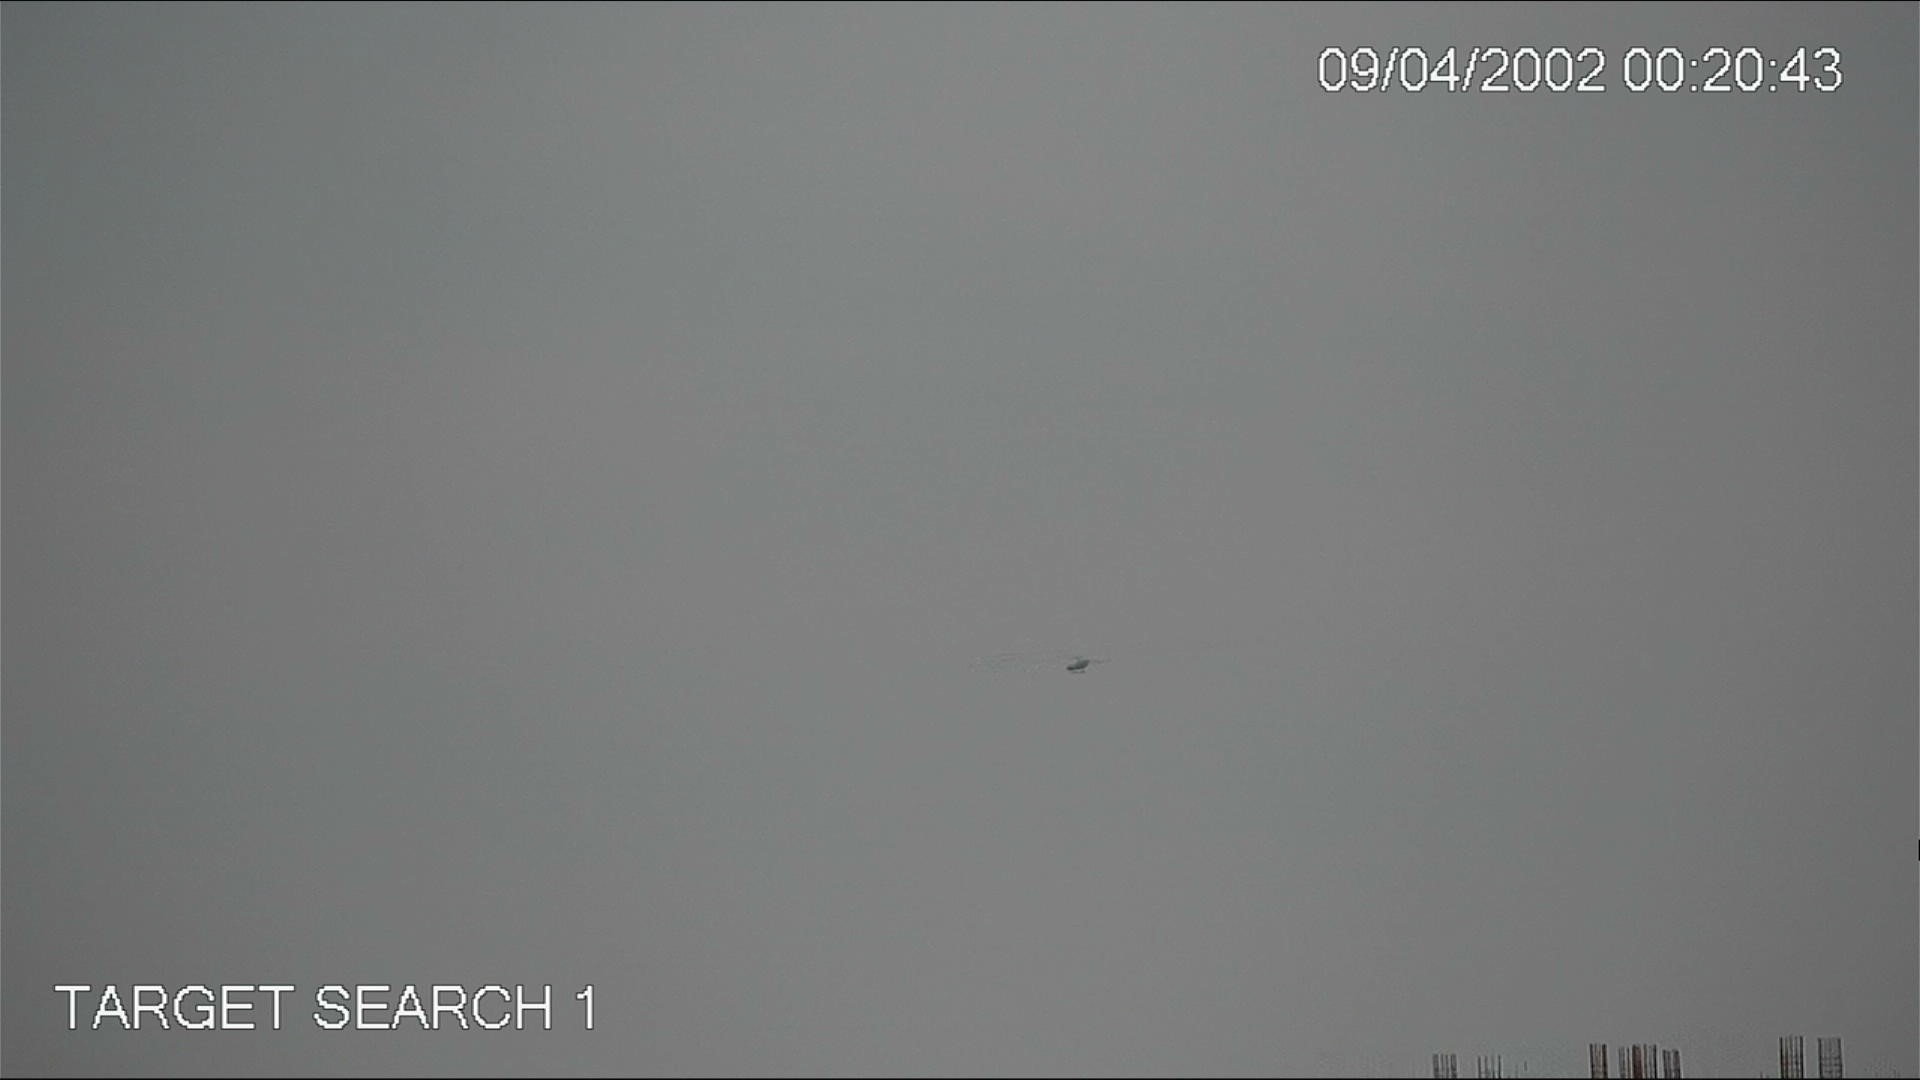SU_30: (1062, 657, 1088, 673)
